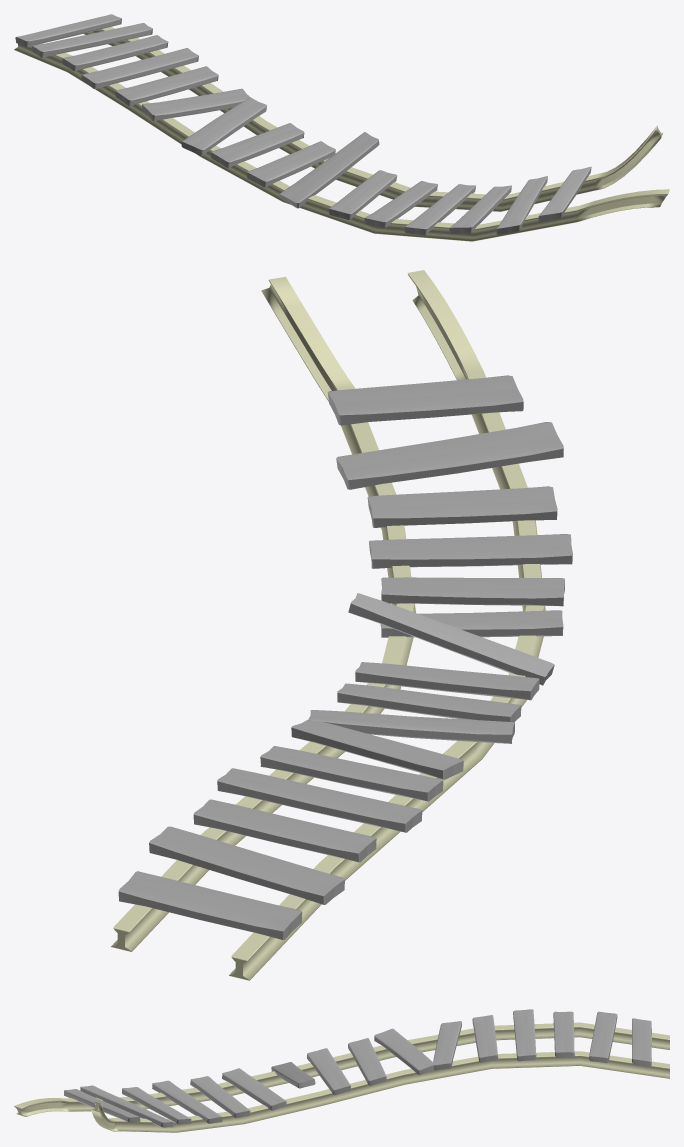
File: Long_Rail.fbx
3 renders of one model, top to bottom at view 1: azimuth 30°, elevation 25°; view 2: azimuth 150°, elevation 25°; view 3: azimuth 270°, elevation 25°, orthographic. The views are drawn at different scales.
Visible parts, largest first — view 1: SM_rail_track20; view 2: SM_rail_track20; view 3: SM_rail_track20.
Boxes of the visible parts, x1,y1,x2,y2 form: SM_rail_track20: (14, 14, 669, 241); SM_rail_track20: (111, 270, 572, 980); SM_rail_track20: (14, 1009, 669, 1132).
Bounding box in the file's own units: 22.6 × 6.4 × 44.09.
